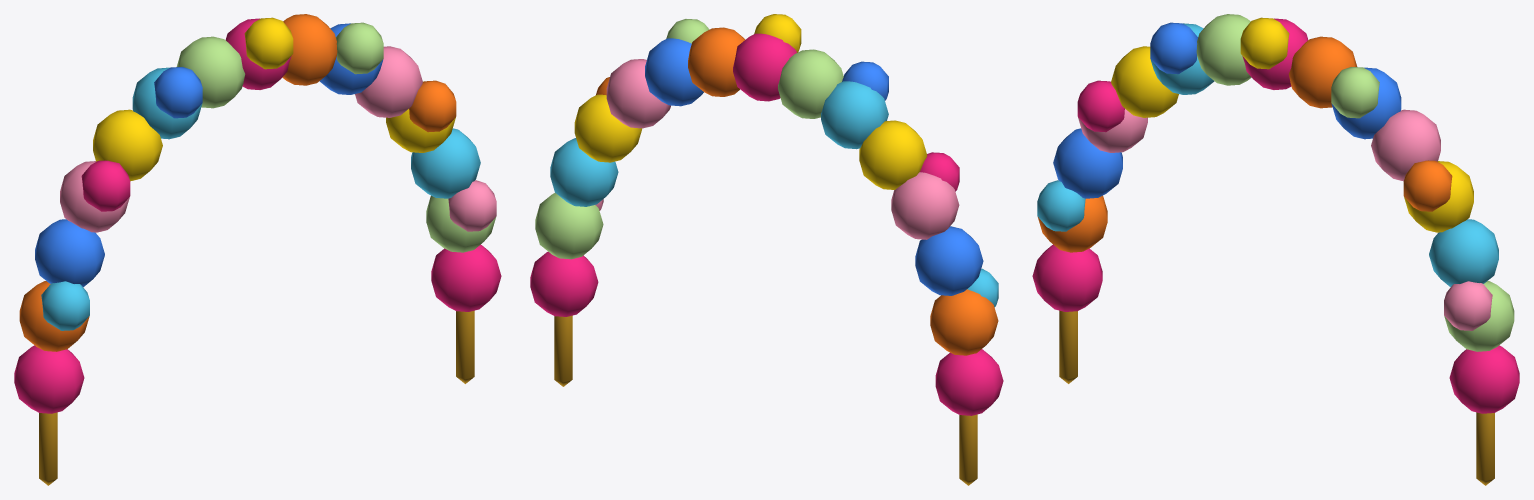
Rendered from W6_Balloons_B.fbx.
3 renders of one model, left to right at view 1: azimuth 30°, elevation 25°; view 2: azimuth 150°, elevation 25°; view 3: azimuth 330°, elevation 25°, orthographic. The views are drawn at different scales.
Visible parts, largest first — view 1: W6_Balloons_B; view 2: W6_Balloons_B; view 3: W6_Balloons_B.
Boxes of the visible parts, <box> form: W6_Balloons_B: <box>14,14,501,485</box>; W6_Balloons_B: <box>530,14,1003,485</box>; W6_Balloons_B: <box>1032,14,1519,485</box>.
Bounding box in the file's own units: 4.59 × 3.89 × 0.7092.
